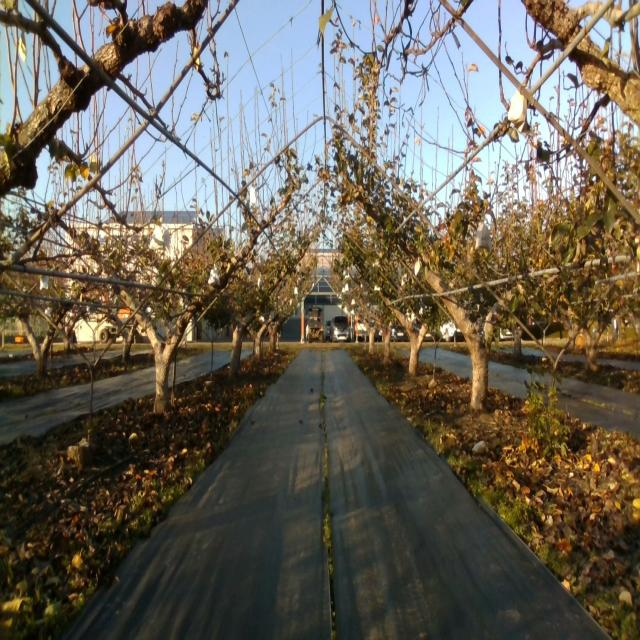pearbags: (507, 89, 528, 136), (150, 221, 170, 252), (475, 222, 492, 252), (208, 264, 221, 284)
